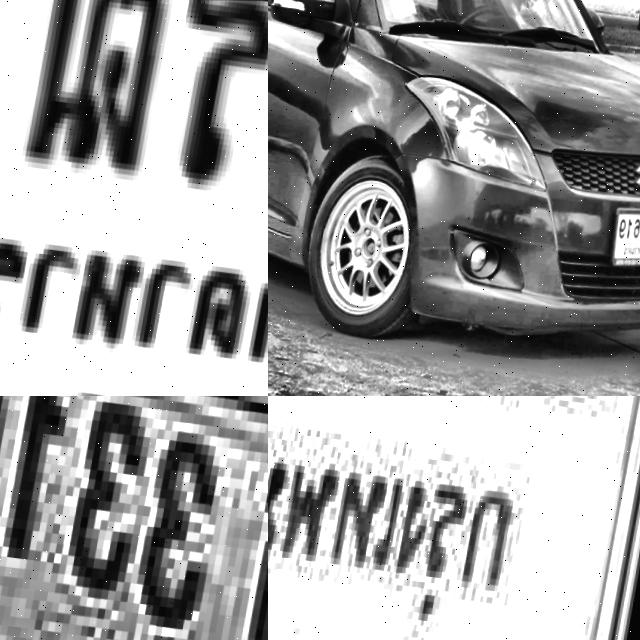license-plate: (0, 0, 268, 396), (268, 396, 640, 640), (0, 396, 268, 640), (610, 199, 640, 272)
